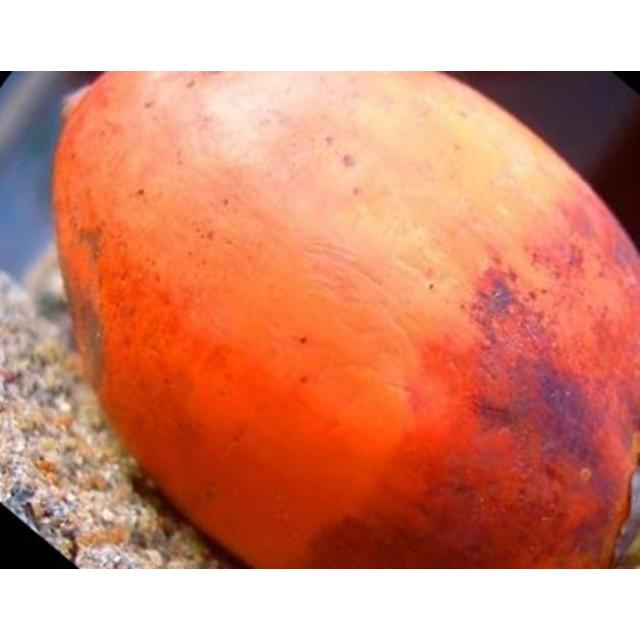good: (51, 71, 639, 568)
